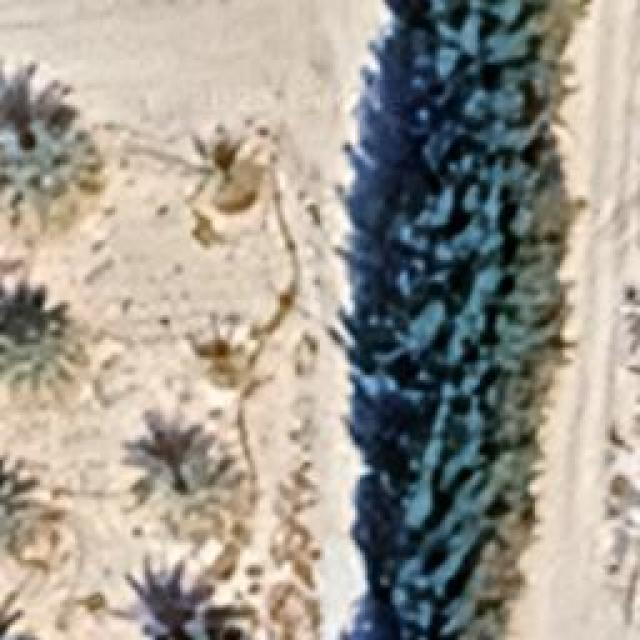PalmTree: (0, 87, 105, 235), (0, 278, 75, 396), (132, 562, 242, 640), (132, 434, 222, 508), (0, 455, 60, 565)
